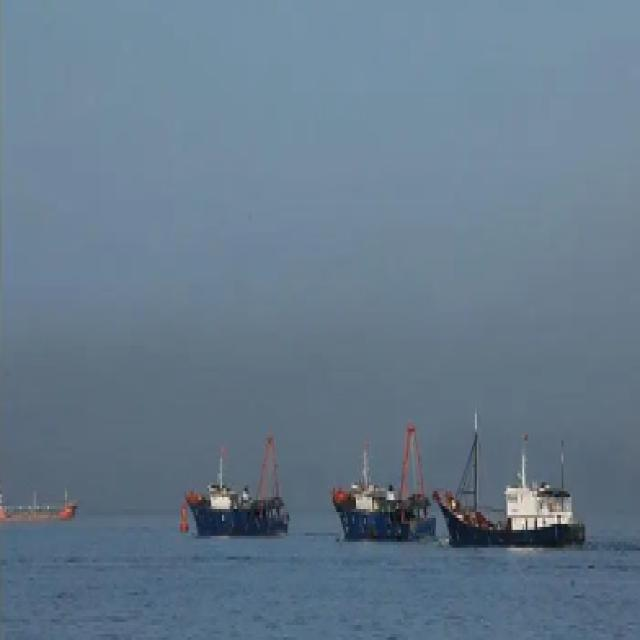cargoship: (430, 406, 574, 546), (330, 418, 442, 538), (183, 434, 292, 540), (0, 472, 77, 525)
